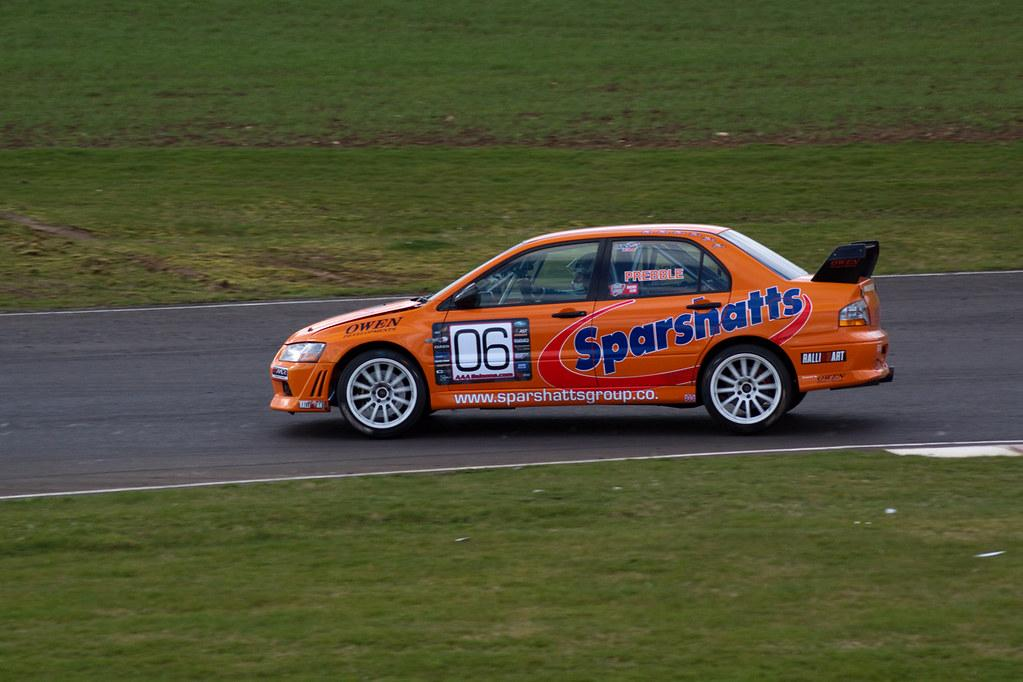car: (269, 223, 895, 440)
